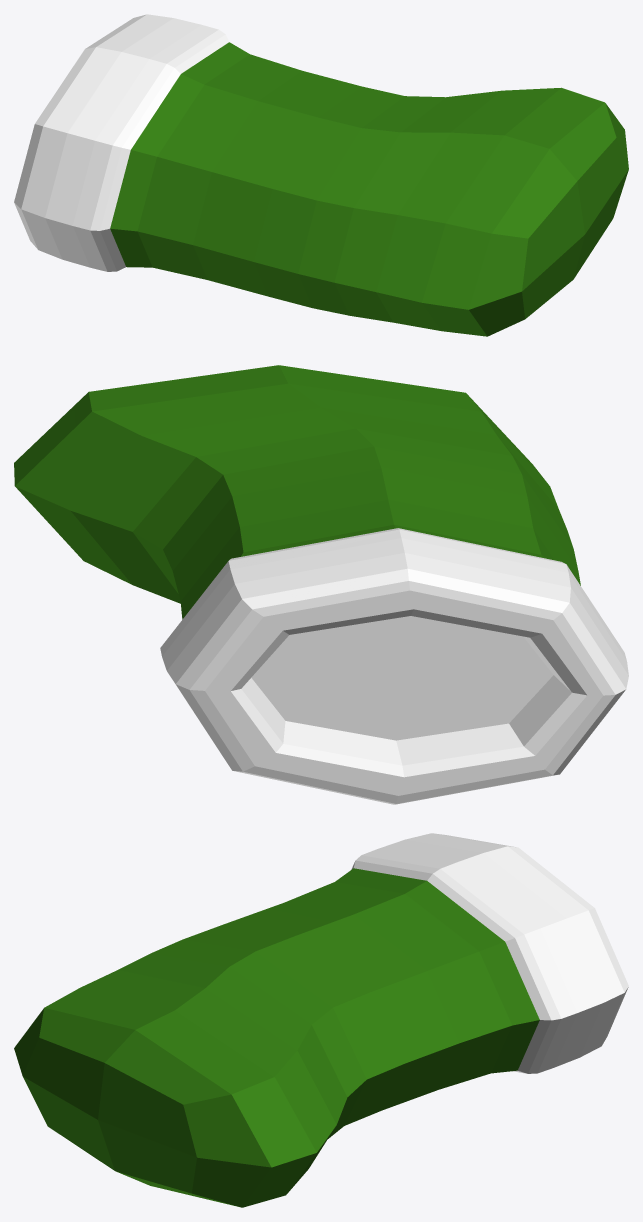
The model's file is socks1.gltf.
3 renders of one model, top to bottom at view 1: azimuth 30°, elevation 25°; view 2: azimuth 150°, elevation 25°; view 3: azimuth 270°, elevation 25°, orthographic. The views are drawn at different scales.
Parts seen in each view (by area): view 1: Cube.001_Cube.002, Cube.002_Cube.004; view 2: Cube.002_Cube.004, Cube.001_Cube.002; view 3: Cube.001_Cube.002, Cube.002_Cube.004.
Part boxes in pixels (<box>): Cube.001_Cube.002: <box>110,42,628,336</box>; Cube.002_Cube.004: <box>14,14,228,271</box>; Cube.002_Cube.004: <box>160,528,628,804</box>; Cube.001_Cube.002: <box>14,365,580,619</box>; Cube.001_Cube.002: <box>14,868,539,1207</box>; Cube.002_Cube.004: <box>351,833,628,1073</box>.
Size of the model in its own units: 4.52 by 1.51 by 4.25.
